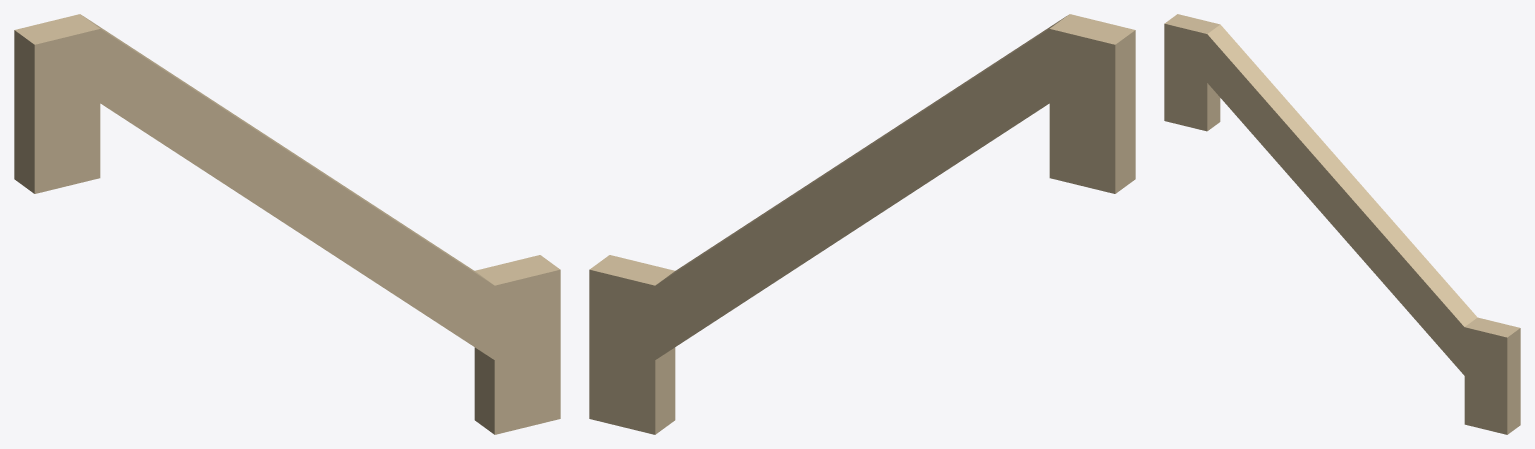
Rendered from Wood_Railing_01.glb.
3 views of the same model, side by side, from view 1: azimuth 30°, elevation 25°; view 2: azimuth 150°, elevation 25°; view 3: azimuth 330°, elevation 25° (orthographic). The views are drawn at different scales.
Parts seen in each view (by area): view 1: Mesh1 Wood_Railing Model; view 2: Mesh1 Wood_Railing Model; view 3: Mesh1 Wood_Railing Model.
Part boxes in pixels (box(x1,y1,x2,y2)): Mesh1 Wood_Railing Model: box(14, 14, 560, 434); Mesh1 Wood_Railing Model: box(589, 14, 1135, 434); Mesh1 Wood_Railing Model: box(1164, 14, 1520, 434).
Size of the model in its own units: 3 by 2.74 by 0.2.
